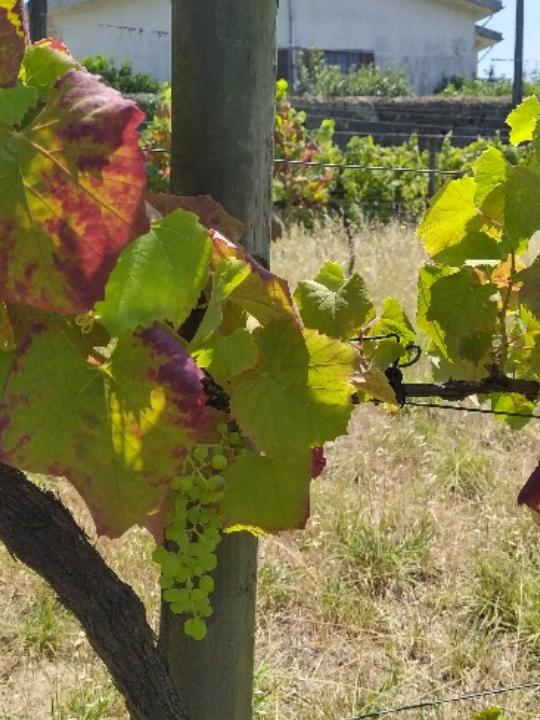grape: (149, 419, 235, 642)
